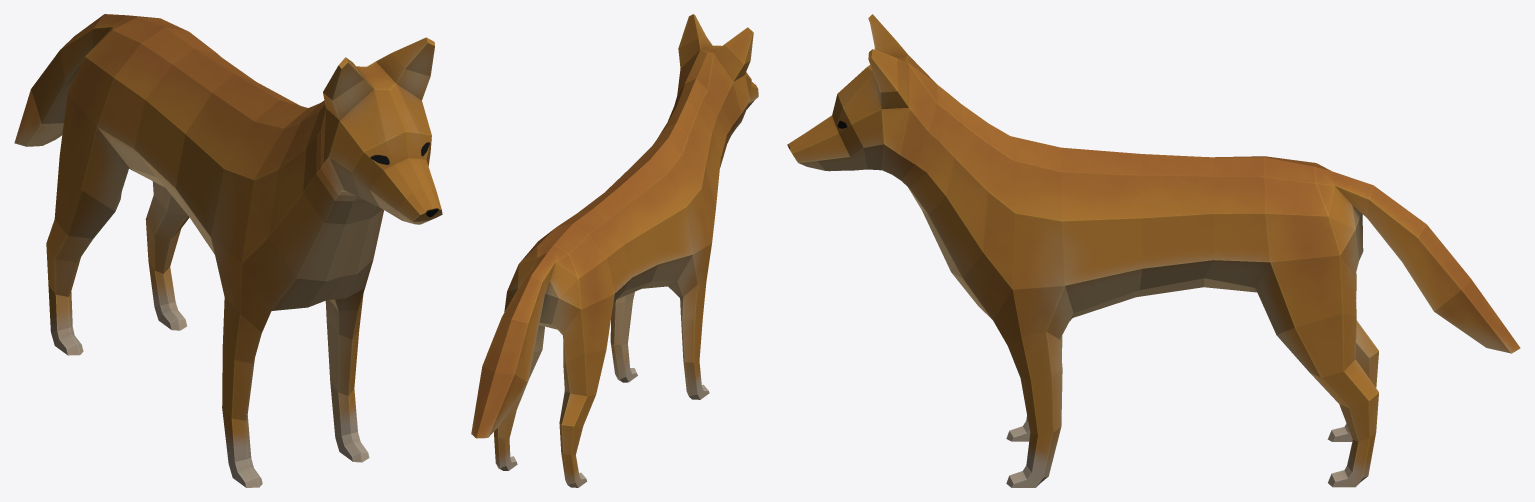
File: dingo.glb
The picture shows the model from 3 angles, left to right: view 1: azimuth 30°, elevation 25°; view 2: azimuth 150°, elevation 25°; view 3: azimuth 270°, elevation 25°; orthographic projection. The views are drawn at different scales.
Parts seen in each view (by area): view 1: node-0; view 2: node-0; view 3: node-0.
Part boxes in pixels (x1,y1,x2,y2): node-0: (14, 14, 442, 487); node-0: (471, 14, 758, 487); node-0: (787, 14, 1520, 487).
Bounding box in the file's own units: 0.9952 × 3.42 × 5.29.
Materials: 1 (1 with a texture image).
